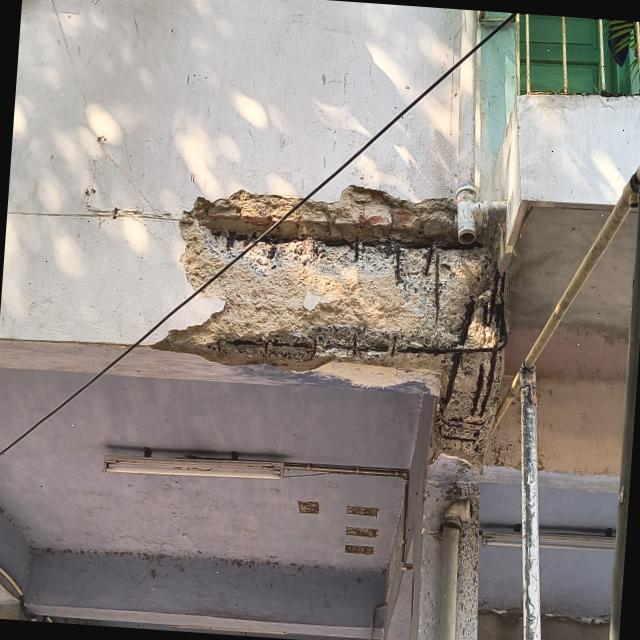Spalling: (159, 188, 504, 431)
